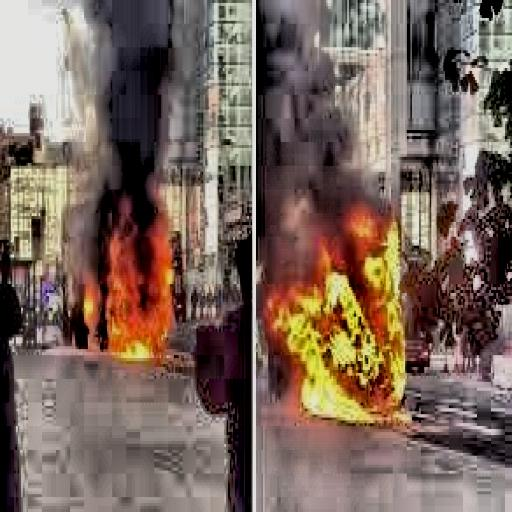fire: (264, 210, 422, 420), (65, 204, 195, 373)
